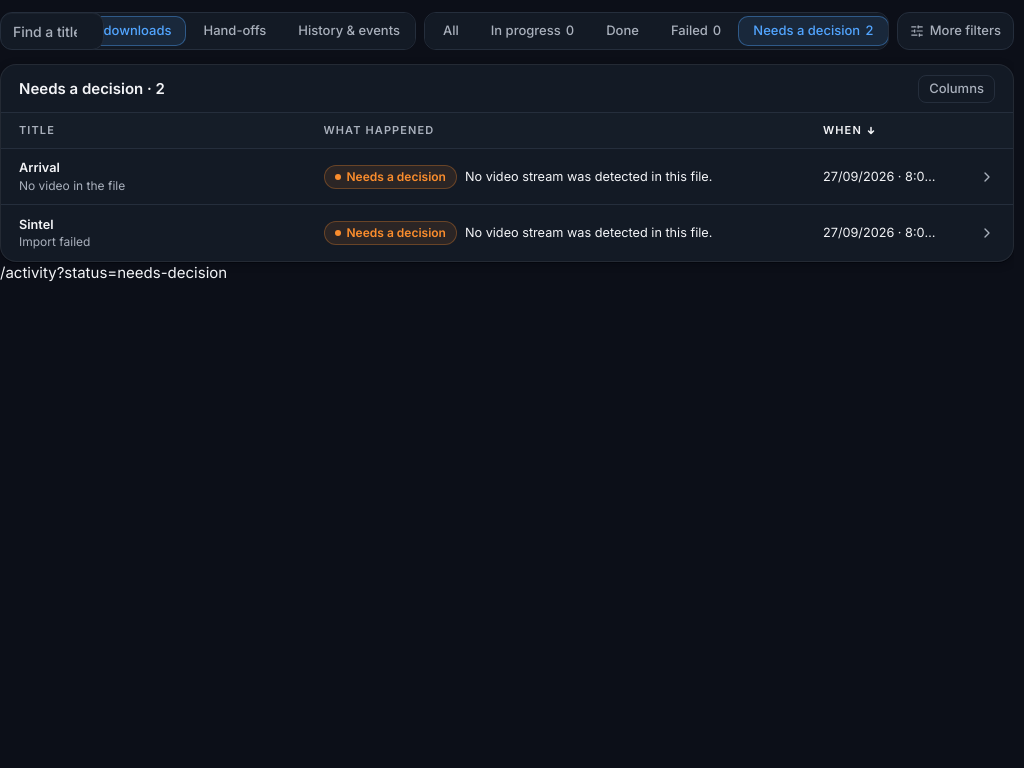
Scenario: An import case is decided from its drawer (#1114) › retries through the shared route, says what happened and asks the sources again
The image size is (1024, 768).
Click the text "Sintel" at (36, 224), box 19,217 -> 54,232
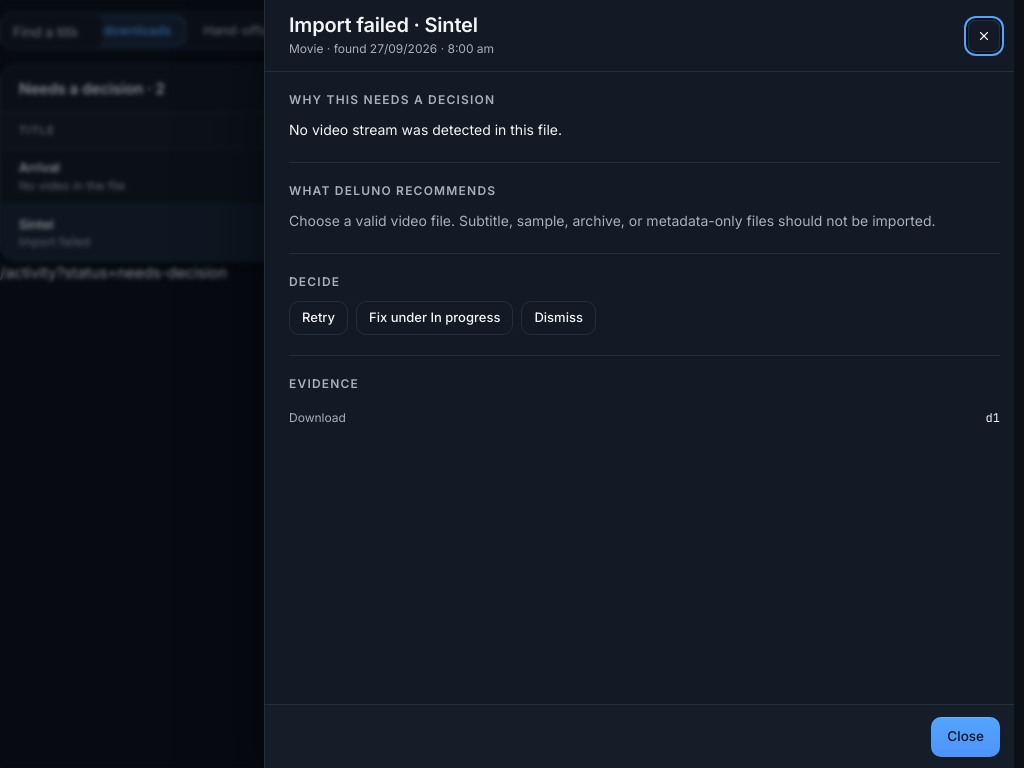
Click the button with aria-label "Retry: Sintel" at (318, 318), box 289,300 -> 348,334
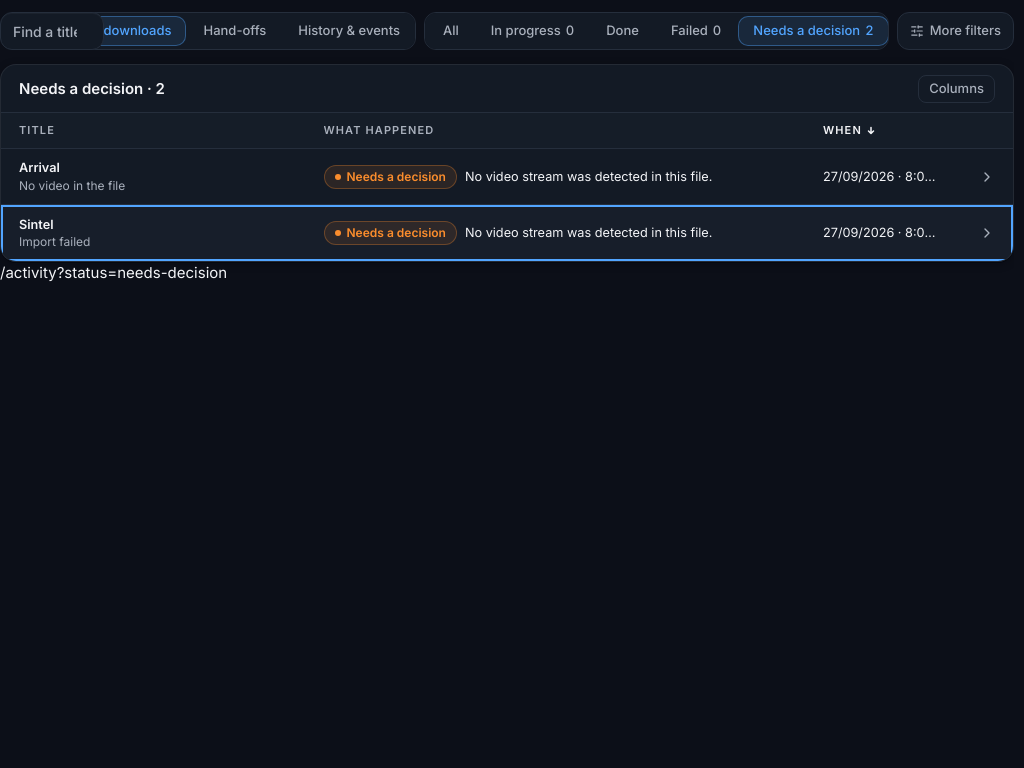
Now the dialog is gone
